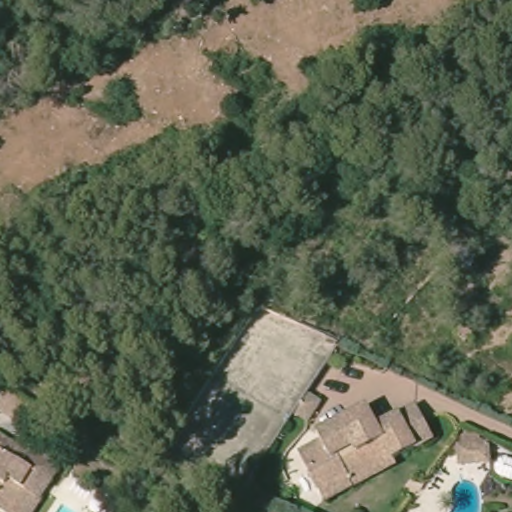pool: (445, 476, 484, 508)
